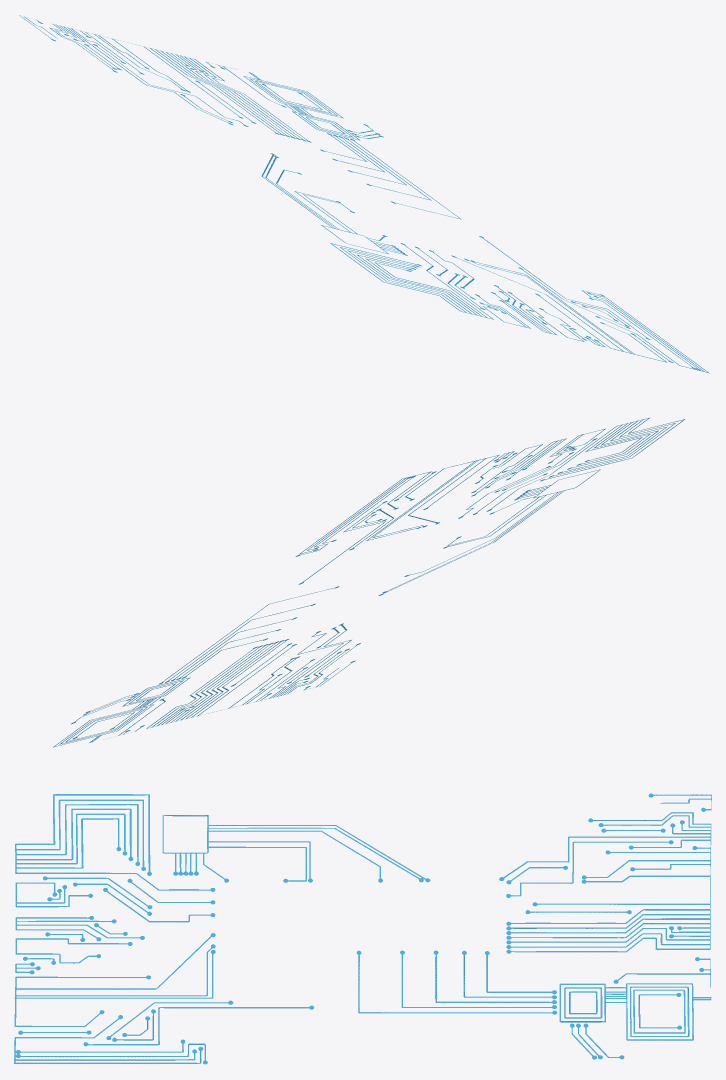
The model's file is circuit panel.fbx.
The picture shows the model from 3 angles, top to bottom: view 1: azimuth 30°, elevation 25°; view 2: azimuth 150°, elevation 25°; view 3: azimuth 270°, elevation 25°; orthographic projection. The views are drawn at different scales.
Parts seen in each view (by area): view 1: circuit_plane; view 2: circuit_plane; view 3: circuit_plane.
Boxes of the visible parts, <box> form: circuit_plane: <box>19,15,709,373</box>; circuit_plane: <box>53,417,684,747</box>; circuit_plane: <box>14,793,711,1064</box>.
Size of the model in its own units: 0.1933 by 0.0907 by 0.4154.
Materials: 1 (1 with a texture image).
